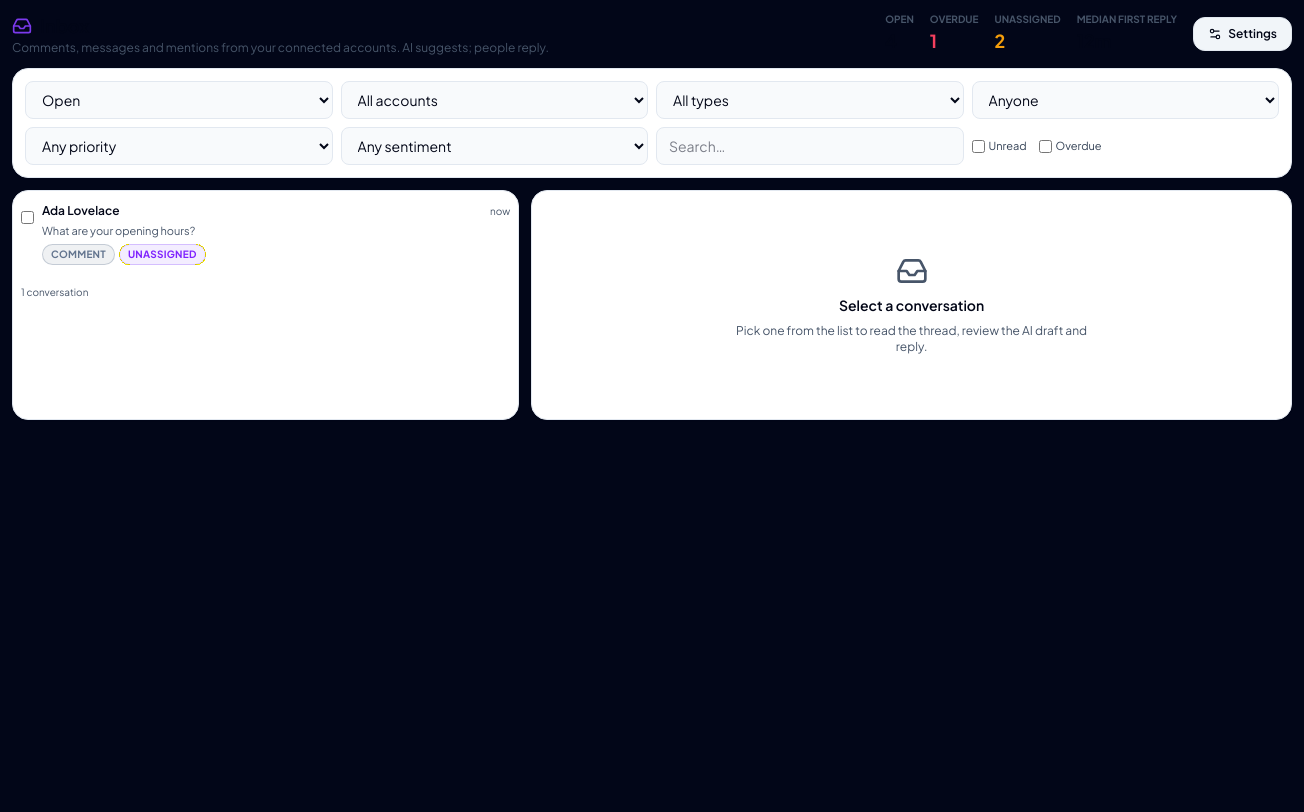
it: conversation view › inserts canned replies into the composer
The width and height of the screenshot is (1304, 812).
Click the button "Ada Lovelace" at (81, 210), box left=42, top=199, right=510, bottom=268
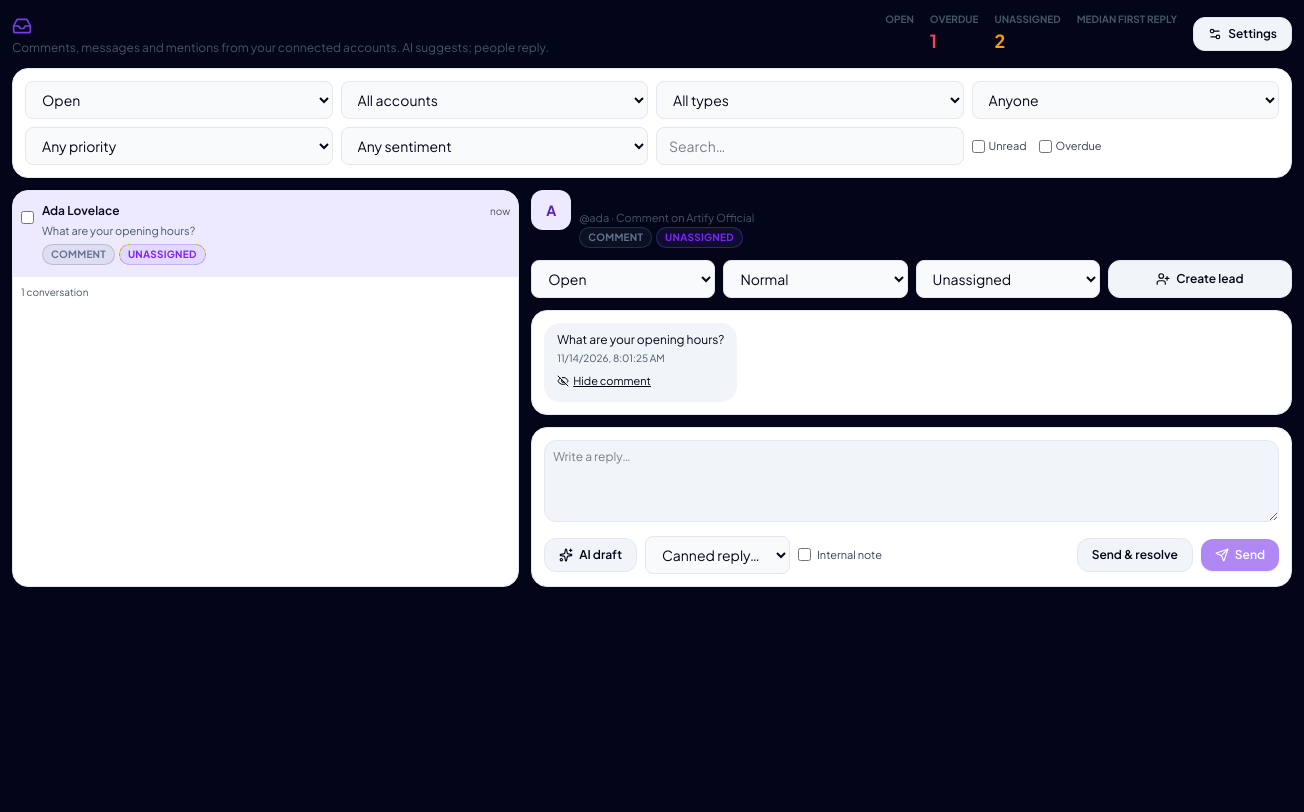
Check: the list named "Conversation thread" is shown, box left=544, top=322, right=737, bottom=402
Select "Opening hours" in the dropdown named "Insert canned reply" at (718, 555), box left=645, top=536, right=790, bottom=574
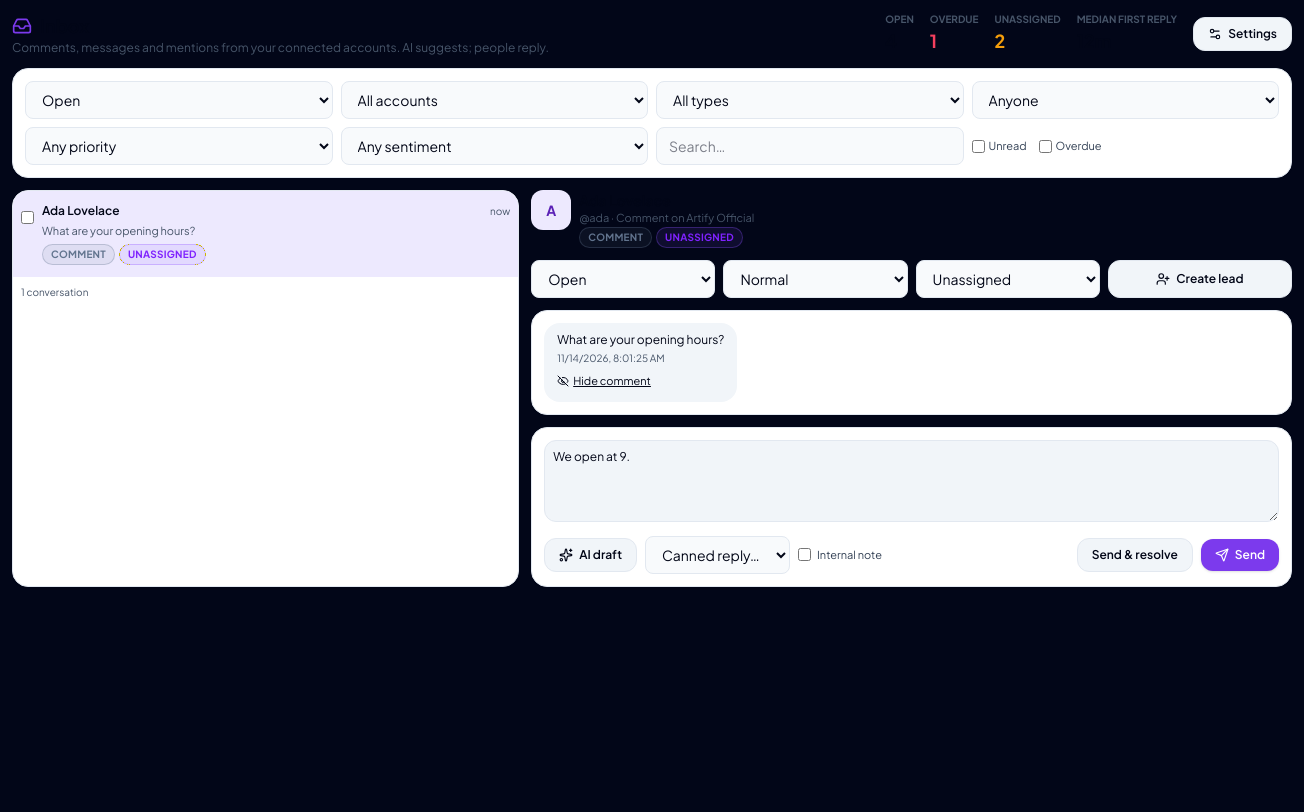
Check: the text box named "Reply text" holds "We open at 9.", box left=544, top=440, right=1279, bottom=522
